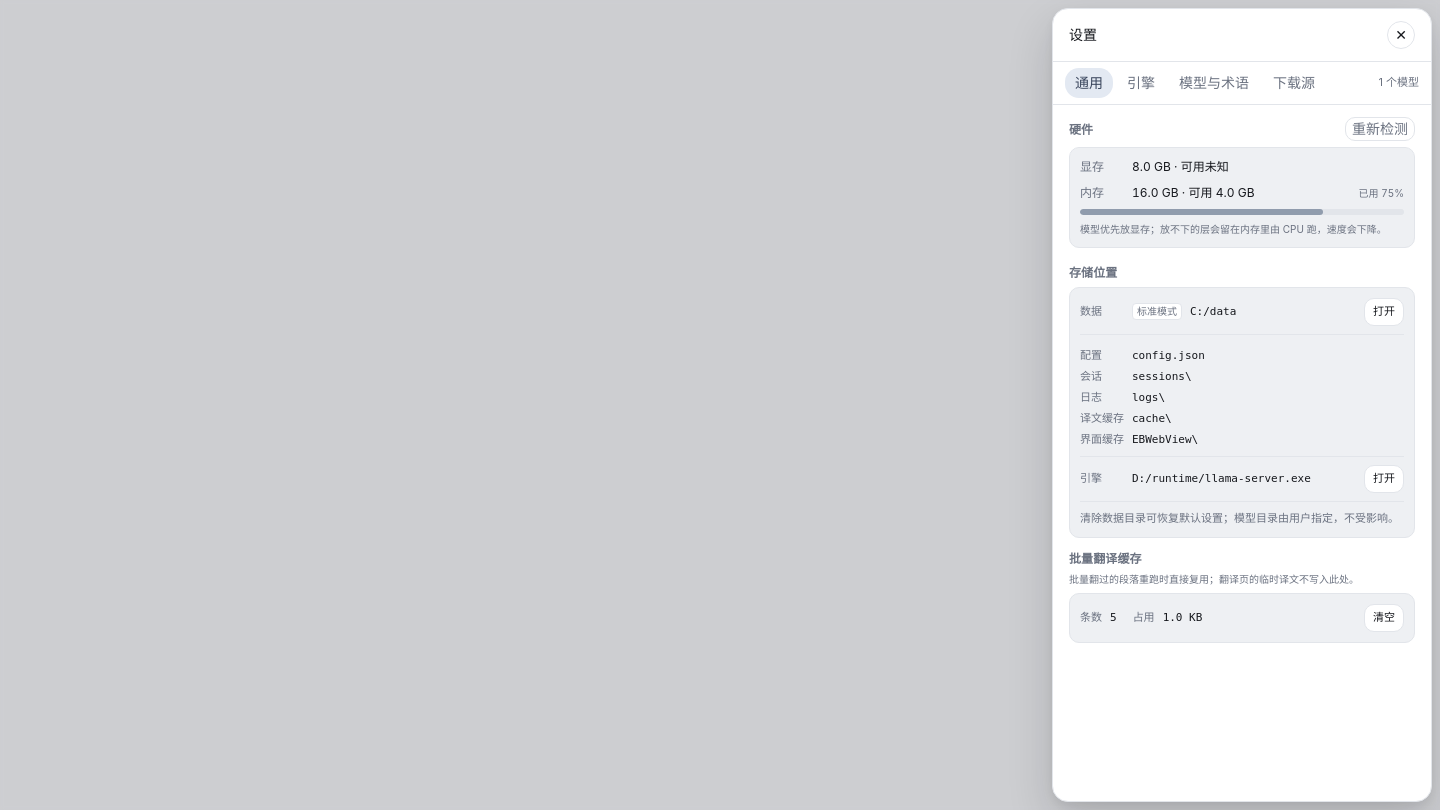
Test: ModelDrawer · 设置读写 › 已下线的 TTL 档位仍按原值显示，不变成占位符
The image size is (1440, 810).
Click the tab "引擎" at [1141, 83], box [1117,68,1165,98]
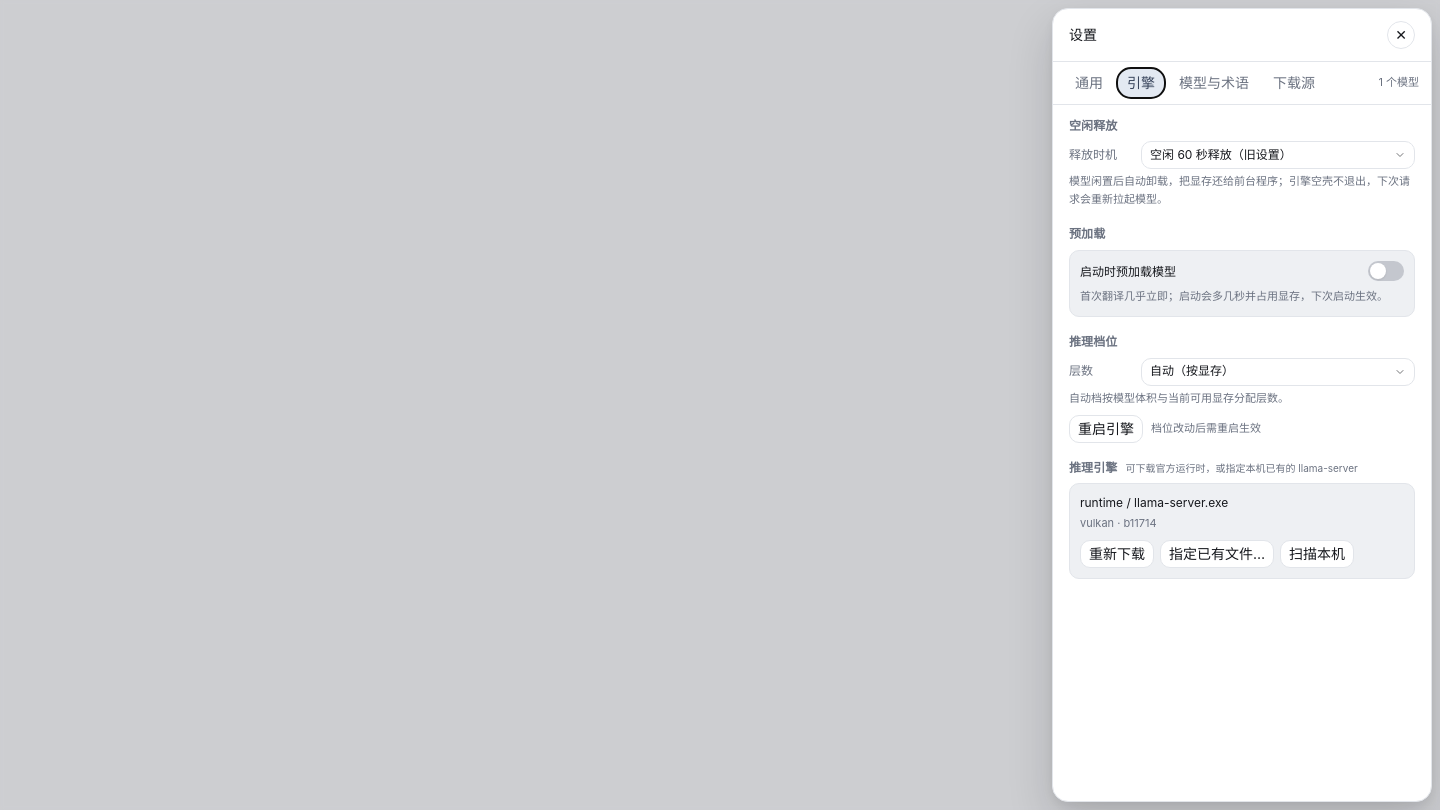
Check: the text "空闲 60 秒释放（旧设置）" is shown, box [1150,147,1292,162]
